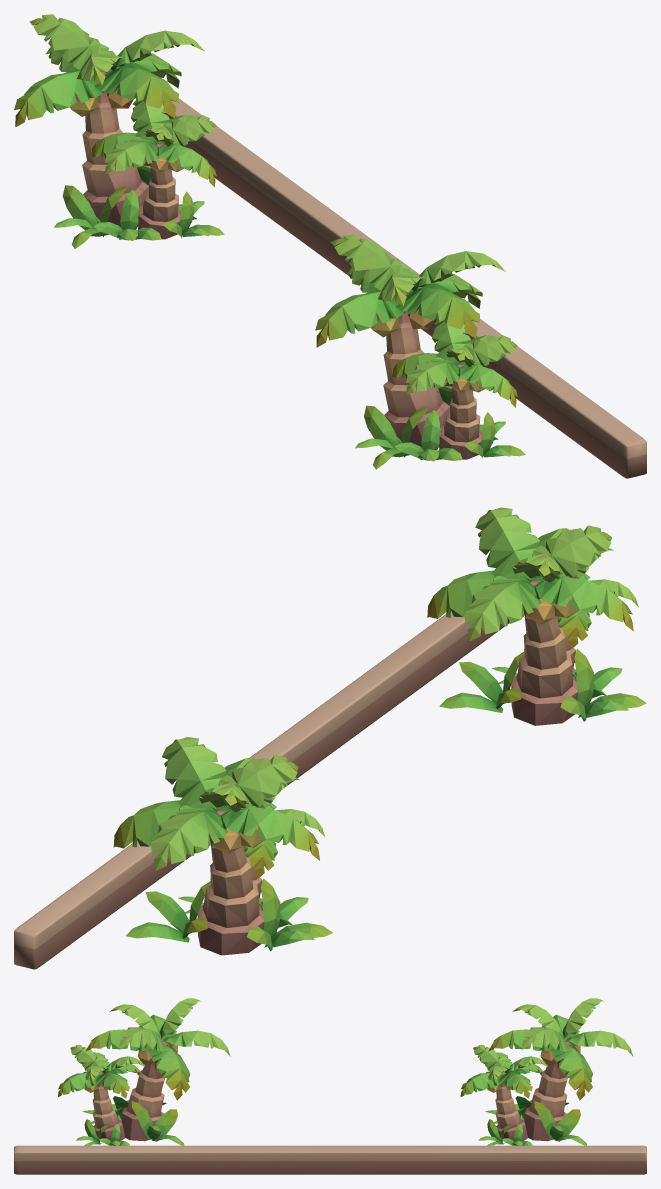
File: Props.fbx
3 renders of one model, top to bottom at view 1: azimuth 30°, elevation 25°; view 2: azimuth 150°, elevation 25°; view 3: azimuth 270°, elevation 25°, orthographic. The views are drawn at different scales.
Parts seen in each view (by area): view 1: yezishu01, yezishu01 (1), Box20-3_1; view 2: yezishu01 (1), yezishu01, Box20-3_1; view 3: Box20-3_1, yezishu01 (1), yezishu01.
Boxes of the visible parts, x1,y1,x2,y2 form: yezishu01: [315, 234, 525, 469]; yezishu01 (1): [14, 14, 224, 248]; Box20-3_1: [162, 98, 646, 478]; yezishu01 (1): [113, 737, 332, 955]; yezishu01: [427, 507, 646, 725]; Box20-3_1: [14, 611, 508, 969]; Box20-3_1: [14, 1145, 646, 1174]; yezishu01 (1): [460, 998, 633, 1145]; yezishu01: [58, 998, 230, 1145].
Bounding box in the file's own units: 10.5 × 8.33 × 37.85.
Materials: 2 (2 with a texture image).
